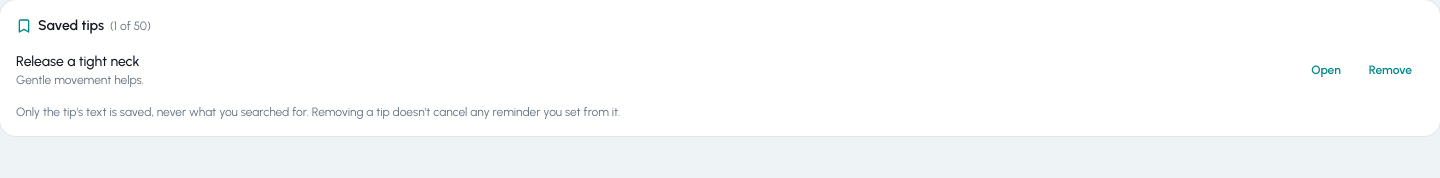
Test: SavedHealthTips › shows a plain message, not the raw error, when removing fails
This screenshot has width=1440, height=178.
Click the button "Remove".
click(1390, 70)  # box [1357,58,1424,82]
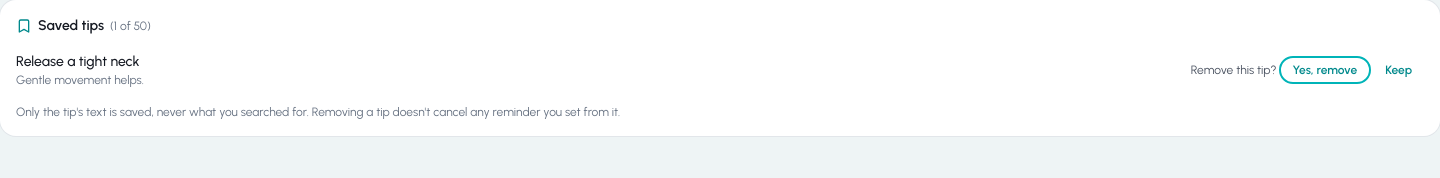
Click the button "Yes, remove".
click(1325, 70)  # box [1280,58,1369,82]
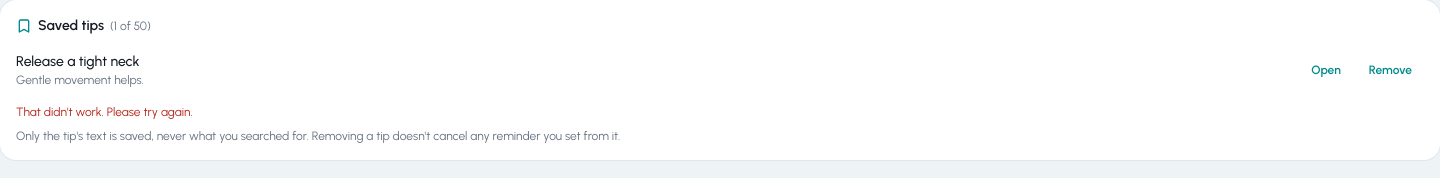
Expected: the message does not show "secret", [16,105,192,119]
Expected: the message shows "didn't work", [16,105,192,119]
